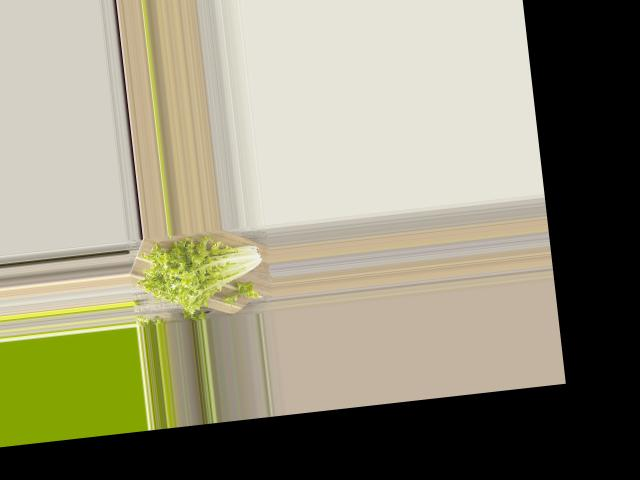lettuce: (138, 229, 273, 316)
